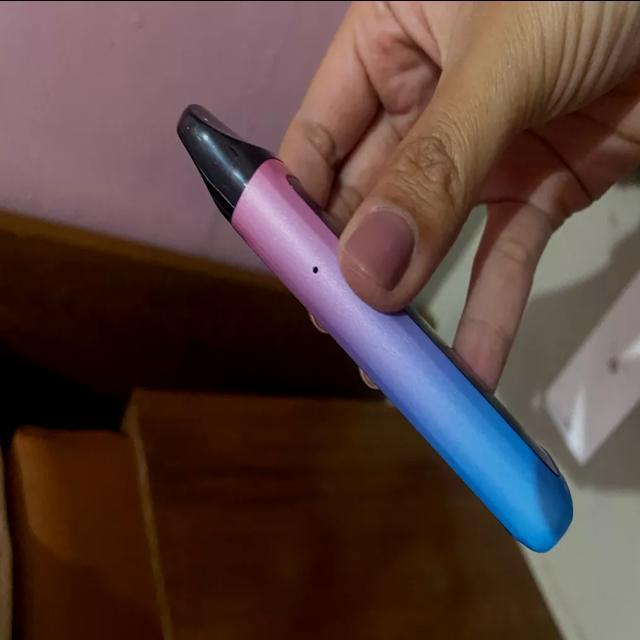Hazard: (173, 102, 575, 554)
